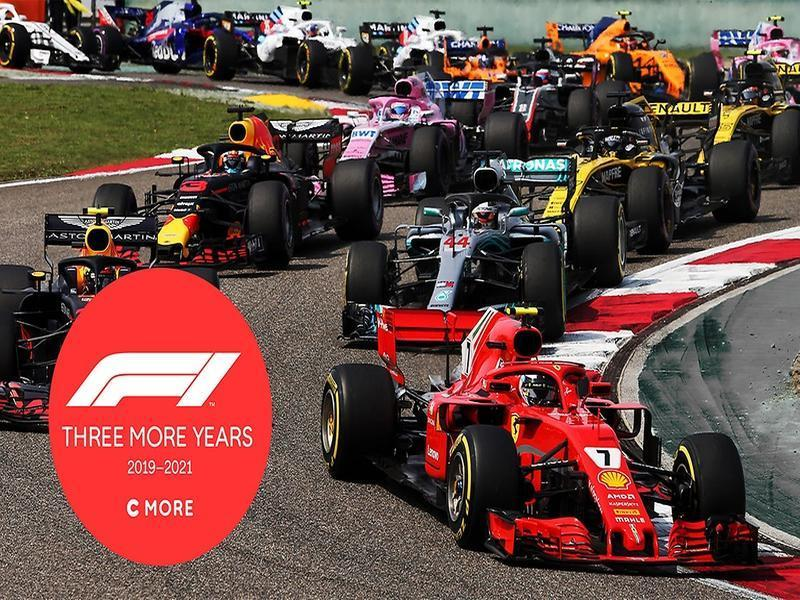f1: (318, 303, 745, 580), (488, 123, 768, 268), (351, 197, 603, 341), (32, 177, 235, 342), (165, 113, 373, 250), (306, 87, 480, 202)
